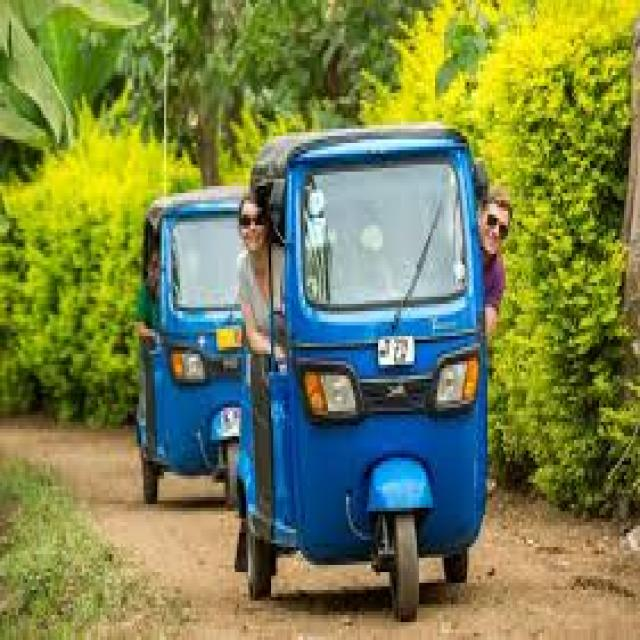tuktuk: (200, 44, 548, 632)
